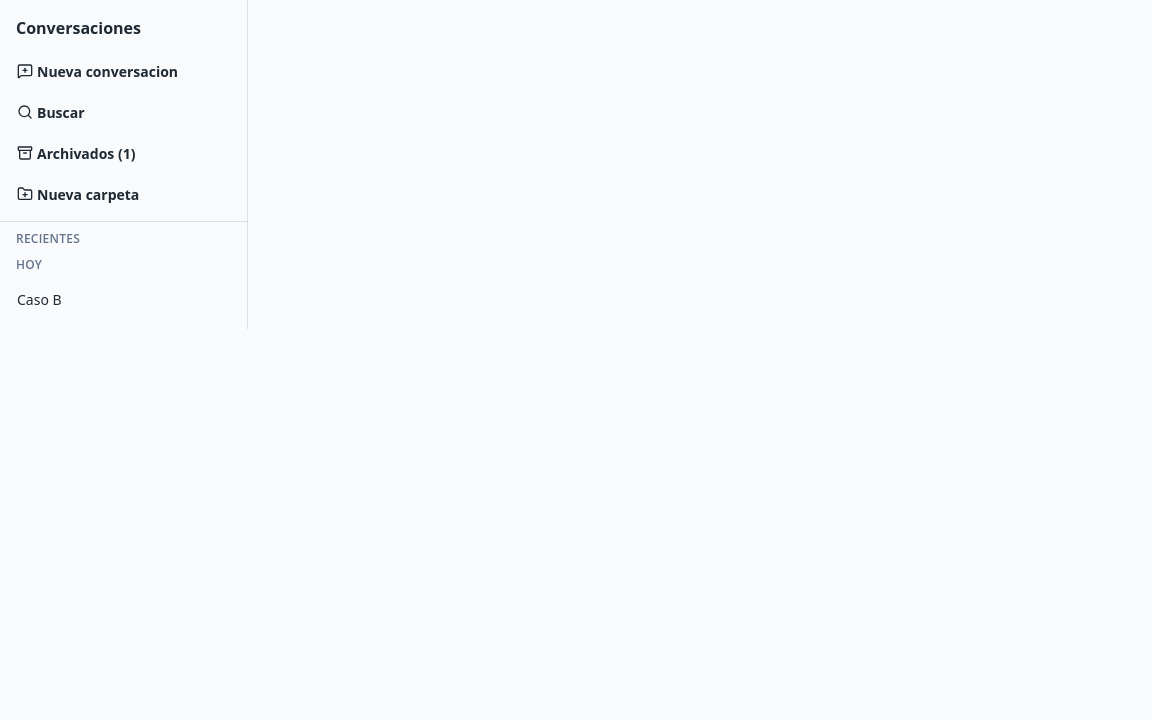
it: ChatSidebar › abre el modal de archivados y muestra el contador
The image size is (1152, 720).
Click the button "Archivados (1)".
click(124, 153)  # box [8, 135, 239, 172]
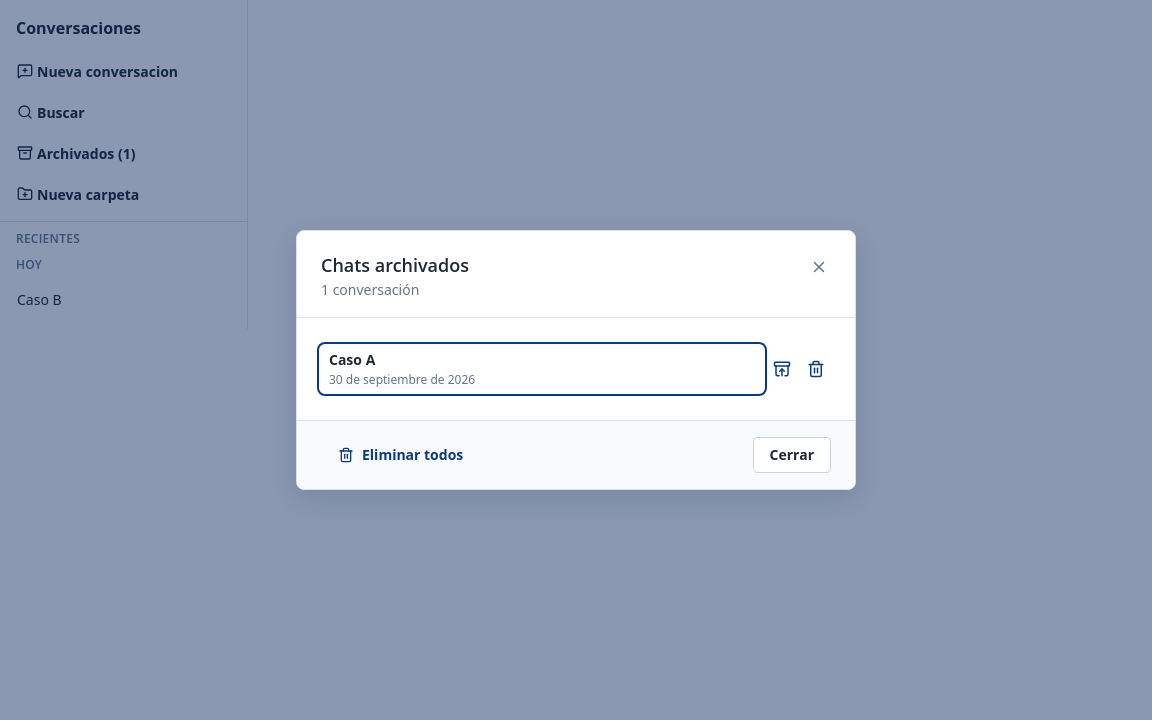
Result: the dialog "Chats archivados" is shown at [296, 230, 856, 490]
